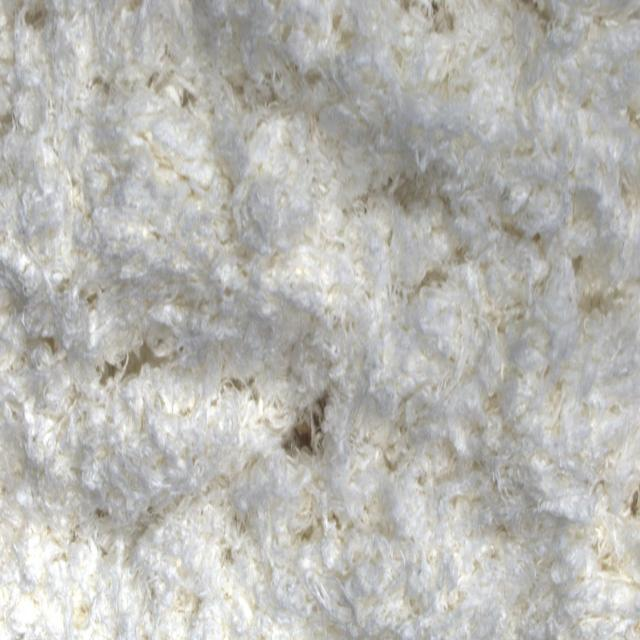dust: (295, 403, 325, 459)
